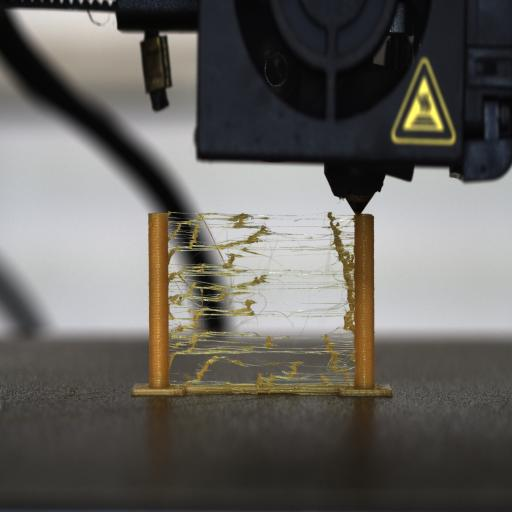stringing: (169, 214, 354, 387)
